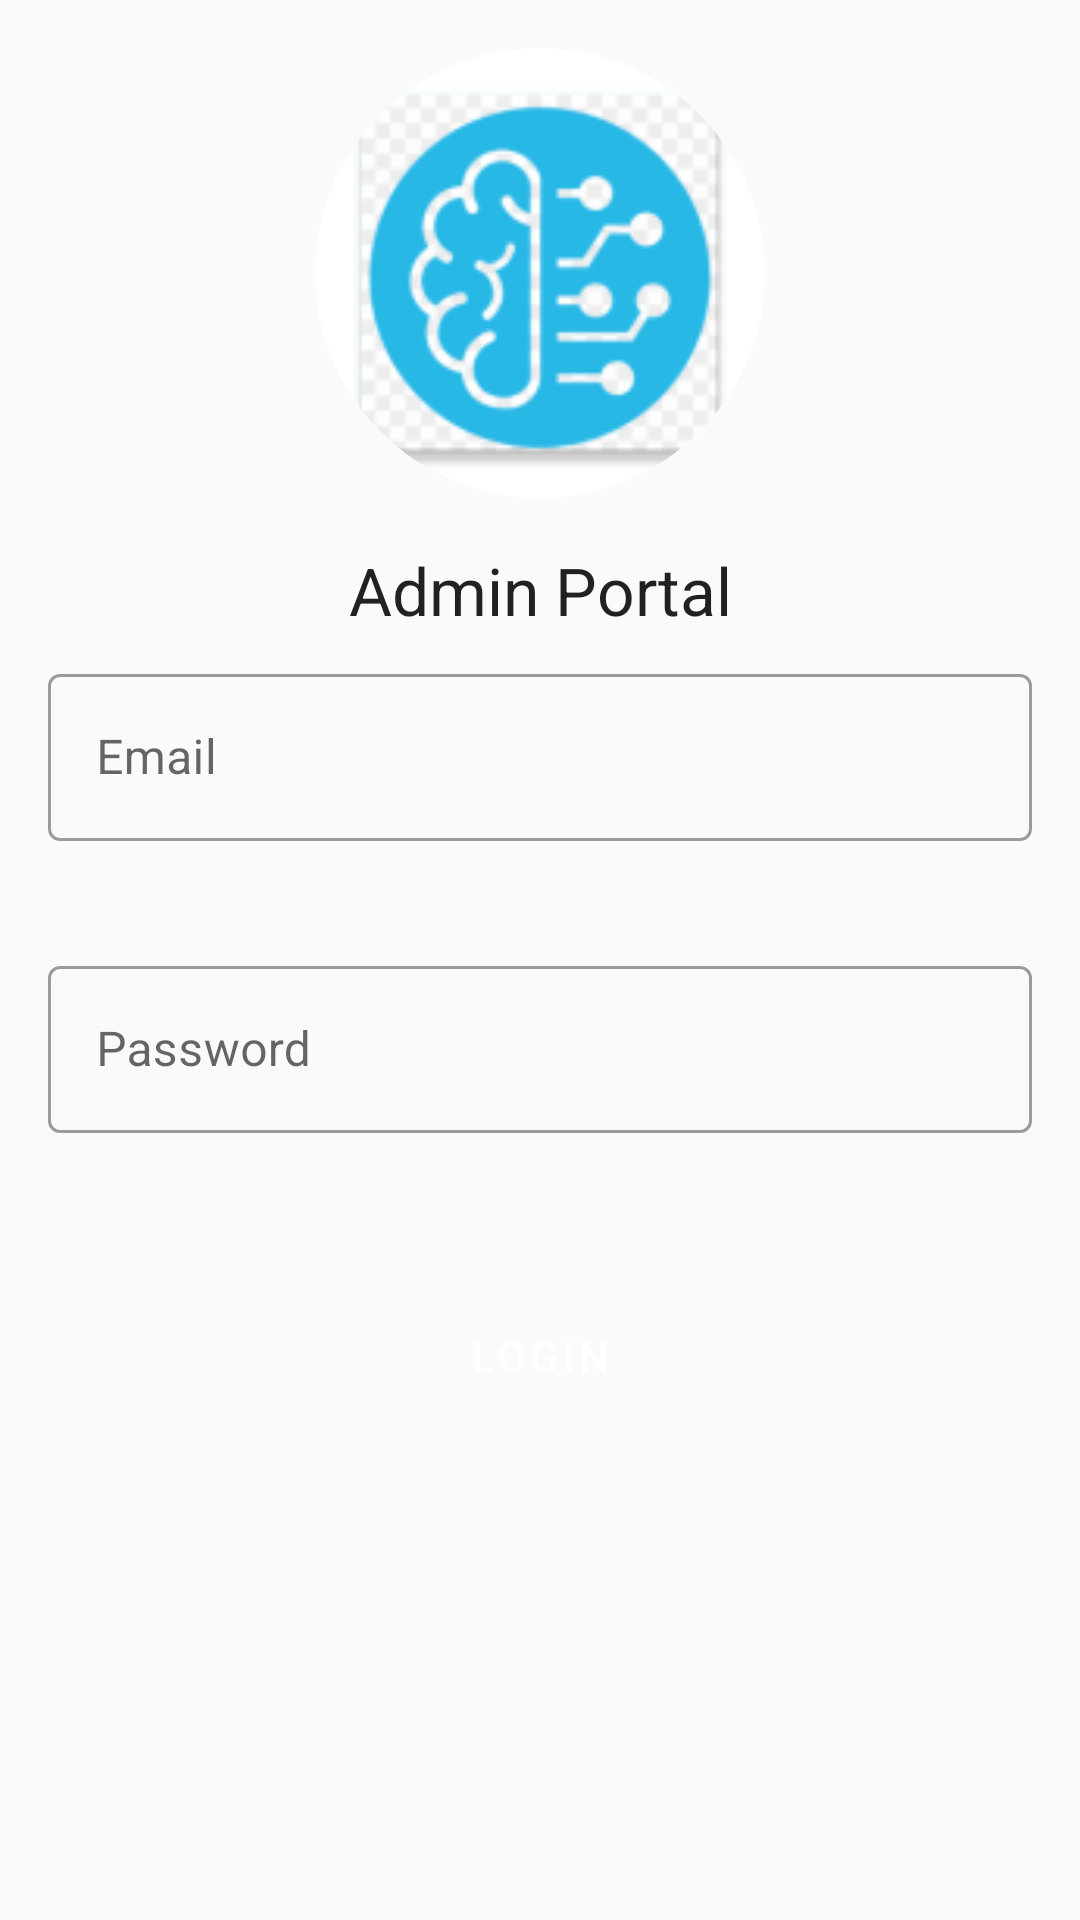

Icon bounding boxes for this 1080px x 1920px phone screenshot, format [x1,y1,x2,y2]:
artif intell: [360,104,720,462]
